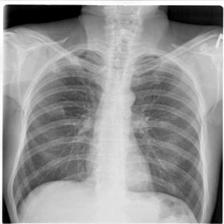tuberculosis: (9, 41, 209, 222)
